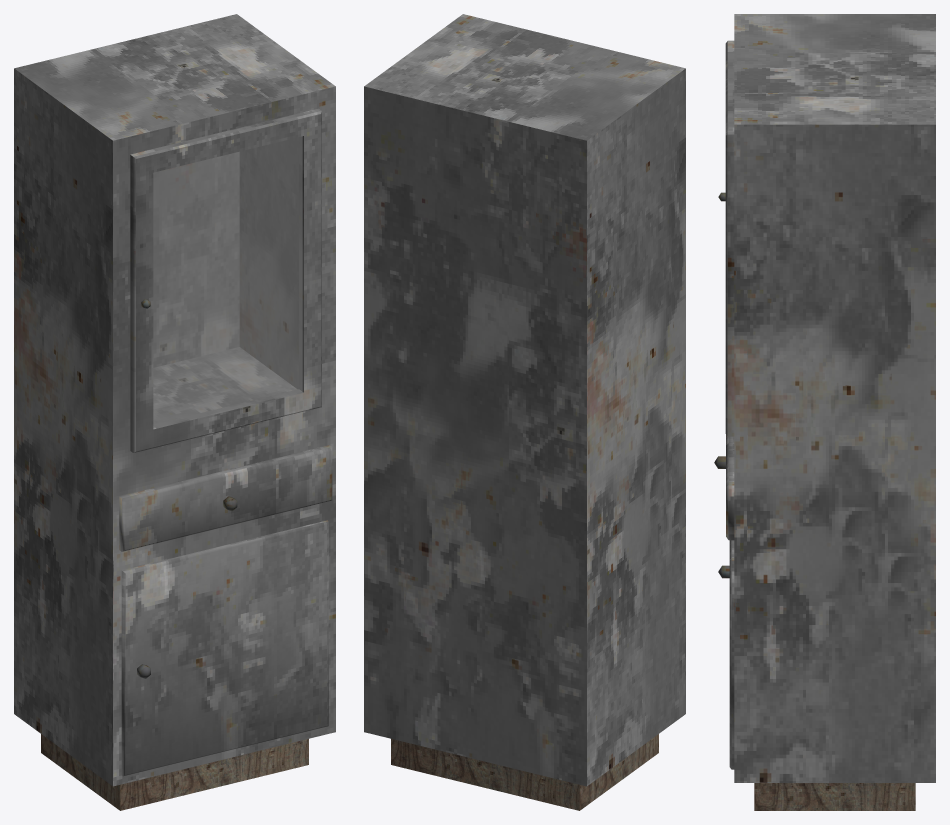
File: _SmallShelf_1.FBX
The picture shows the model from 3 angles, left to right: view 1: azimuth 30°, elevation 25°; view 2: azimuth 150°, elevation 25°; view 3: azimuth 270°, elevation 25°; orthographic projection.
Visible parts, largest first — view 1: _SmallShelf_1_Base, _SmallShelf_1_D1, _SmallShelf_1_D3, _SmallShelf_1_D2; view 2: _SmallShelf_1_Base; view 3: _SmallShelf_1_Base, _SmallShelf_1_D1, _SmallShelf_1_D3, _SmallShelf_1_D2.
Boxes of the visible parts, left/top/right/bottom form: _SmallShelf_1_Base: left=14, top=14, right=335, bottom=810; _SmallShelf_1_D1: left=130, top=108, right=321, bottom=452; _SmallShelf_1_D3: left=121, top=520, right=328, bottom=776; _SmallShelf_1_D2: left=119, top=445, right=332, bottom=551; _SmallShelf_1_Base: left=364, top=14, right=685, bottom=810; _SmallShelf_1_Base: left=734, top=14, right=935, bottom=810; _SmallShelf_1_D1: left=718, top=40, right=734, bottom=436; _SmallShelf_1_D3: left=718, top=540, right=734, bottom=769; _SmallShelf_1_D2: left=714, top=434, right=734, bottom=540.
Bounding box in the file's own units: 65 × 190 × 54.97.
4 materials, 3 textured.
